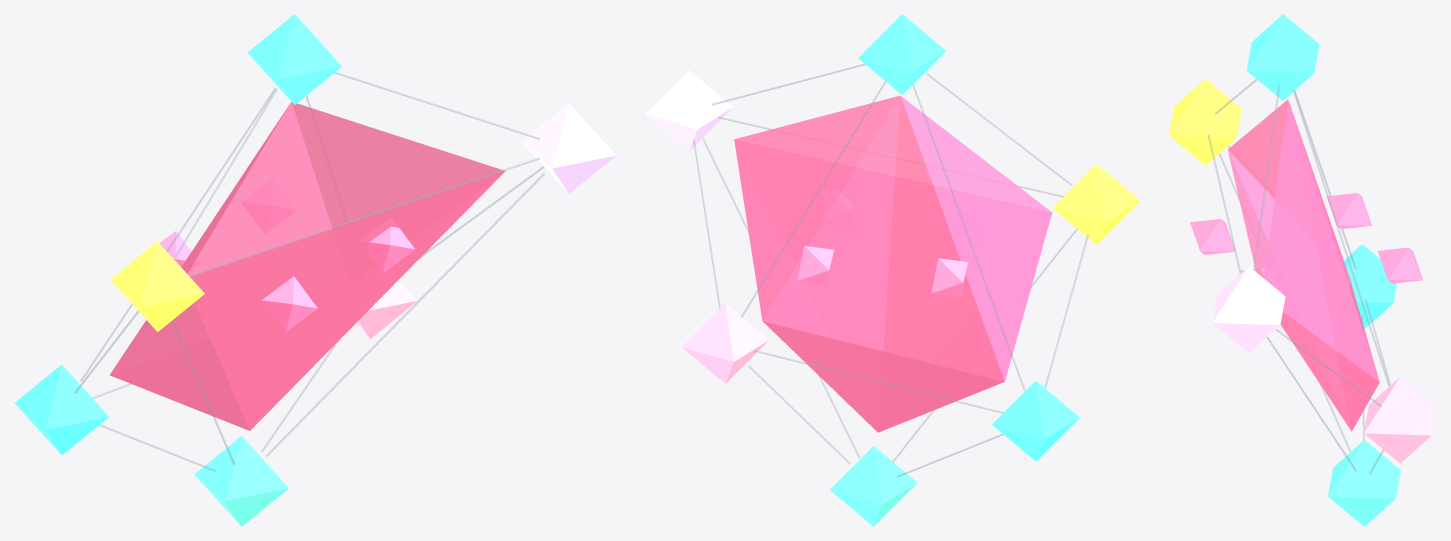
Rendered from balanc_em_core_matrix.glb.
The picture shows the model from 3 angles, left to right: view 1: azimuth 30°, elevation 25°; view 2: azimuth 150°, elevation 25°; view 3: azimuth 270°, elevation 25°; orthographic projection. The views are drawn at different scales.
Parts seen in each view (by area): view 1: object 1, node-dps, node-skill, node-resource, node-ehp, node-mobility, object 21, node-crit, object 20, object 19, object 12; view 2: object 1, node-dps, node-mobility, node-ehp, node-skill, node-crit, node-resource, object 23, object 22, object 10, object 9; view 3: object 1, node-resource, node-dps, node-skill, node-ehp, node-crit, node-mobility, object 23, object 21, object 22, object 9, object 8 (+2 smaller).
Part boxes in pixels (<box>): object 1: <box>110,102,505,430</box>; node-dps: <box>247,14,341,104</box>; node-skill: <box>110,241,204,331</box>; node-resource: <box>194,436,288,526</box>; node-ehp: <box>522,103,616,193</box>; node-mobility: <box>15,364,108,454</box>; object 21: <box>261,276,317,332</box>; node-crit: <box>356,280,417,338</box>; object 20: <box>363,221,414,273</box>; object 19: <box>189,157,539,276</box>; object 12: <box>266,173,544,456</box>; object 1: <box>734,95,1052,432</box>; node-dps: <box>858,14,945,94</box>; node-mobility: <box>992,381,1079,461</box>; node-ehp: <box>645,70,732,151</box>; node-skill: <box>1053,164,1140,244</box>; node-crit: <box>682,303,768,383</box>; node-resource: <box>830,446,917,526</box>; object 23: <box>797,246,834,284</box>; object 22: <box>931,258,968,297</box>; object 10: <box>912,84,1025,390</box>; object 9: <box>741,81,885,317</box>; object 1: <box>1227,99,1379,431</box>; node-resource: <box>1328,440,1400,526</box>; node-dps: <box>1246,14,1319,100</box>; node-skill: <box>1169,78,1241,165</box>; node-ehp: <box>1212,266,1285,352</box>; node-crit: <box>1364,376,1436,463</box>; node-mobility: <box>1344,244,1396,328</box>; object 23: <box>1378,247,1422,283</box>; object 21: <box>1190,219,1235,254</box>; object 22: <box>1326,193,1371,228</box>; object 9: <box>1293,90,1389,386</box>; object 8: <box>1253,84,1279,270</box>.
Size of what is drawn, in the model's own units: 3.3 by 3.33 by 1.56.
